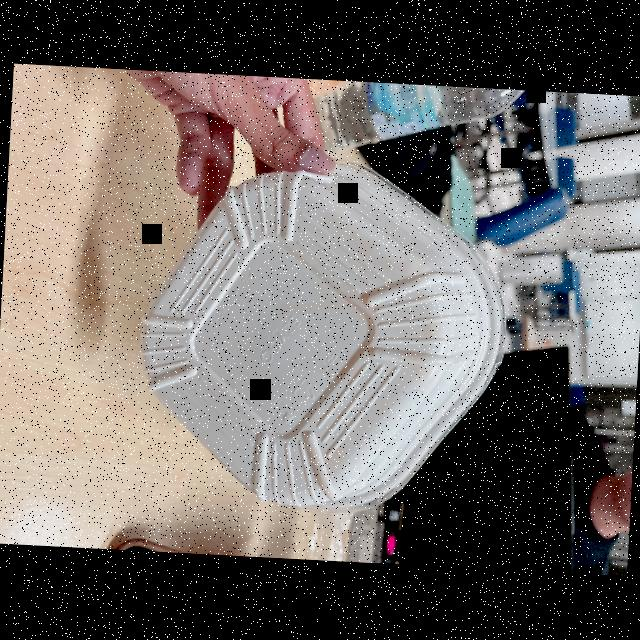plastic_box: (134, 143, 526, 528)
